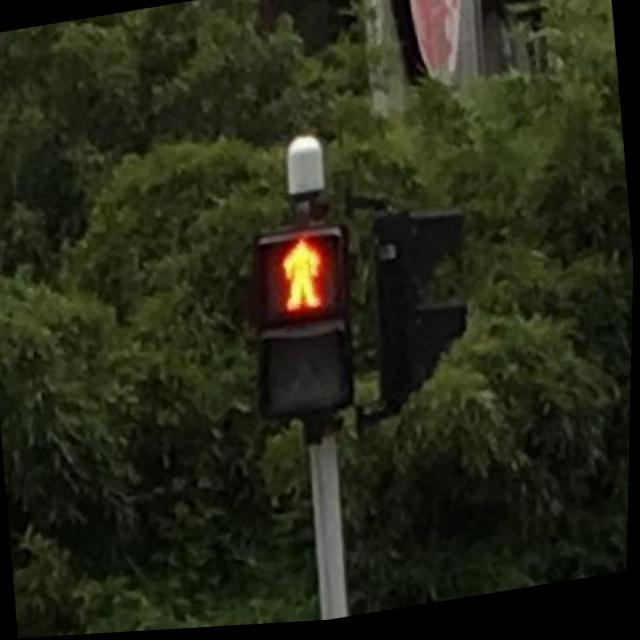red_light: (261, 230, 342, 327)
